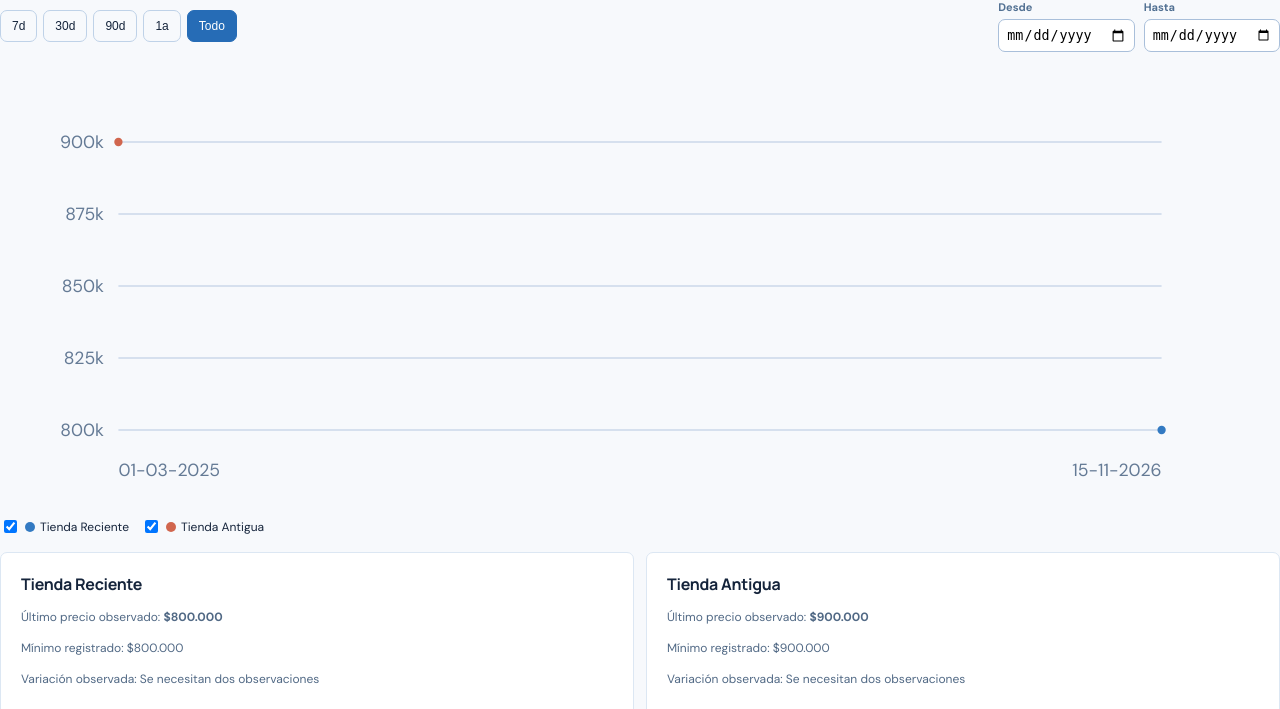
Test: hides stores without observations in selected period from both cards and legend
Expected: the heading "Tienda Antigua" is shown, [667,573,780,595]
Type "2026-11-01" into the date field labelled "Desde" at (1066, 36), box [998,19,1135,52]
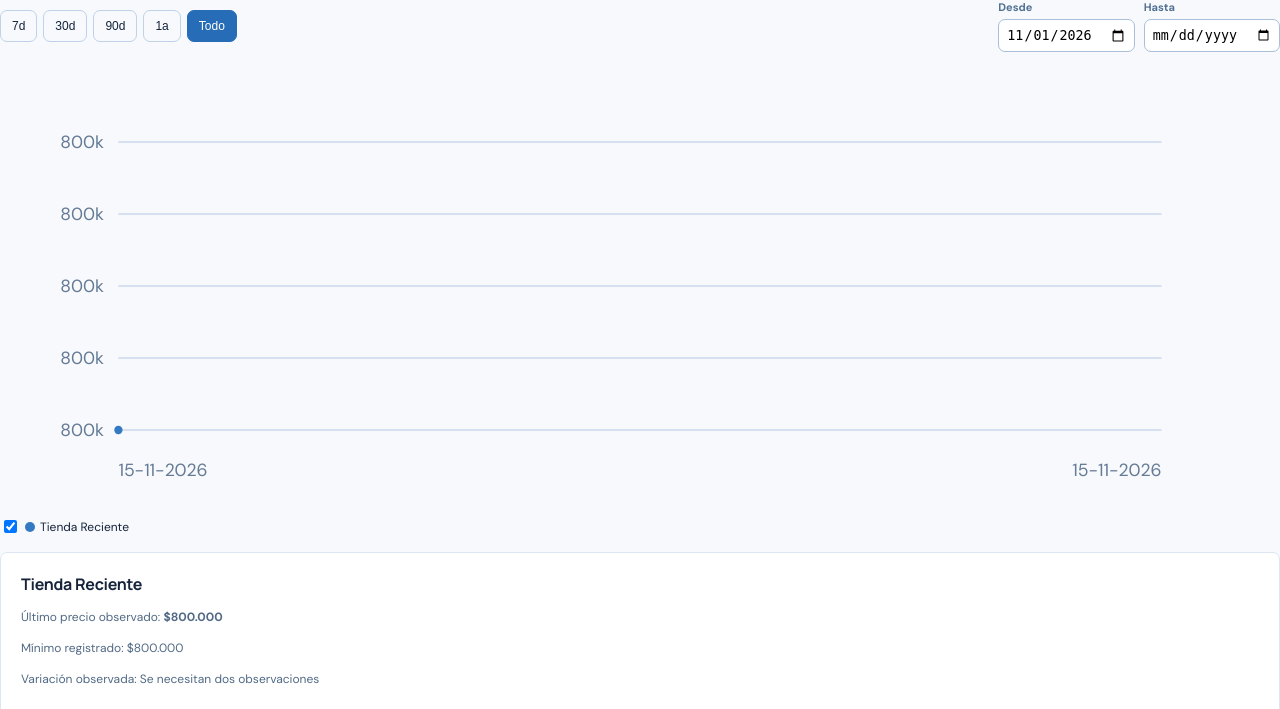
Expected: the heading "Tienda Reciente" is shown, [21,573,142,595]
Expected: the label "Tienda Antigua" is gone
Expected: the label labelled "Tienda Antigua" is gone
Type "2027-01-01" into the date field labelled "Desde" at (1066, 36), box [998,19,1135,52]
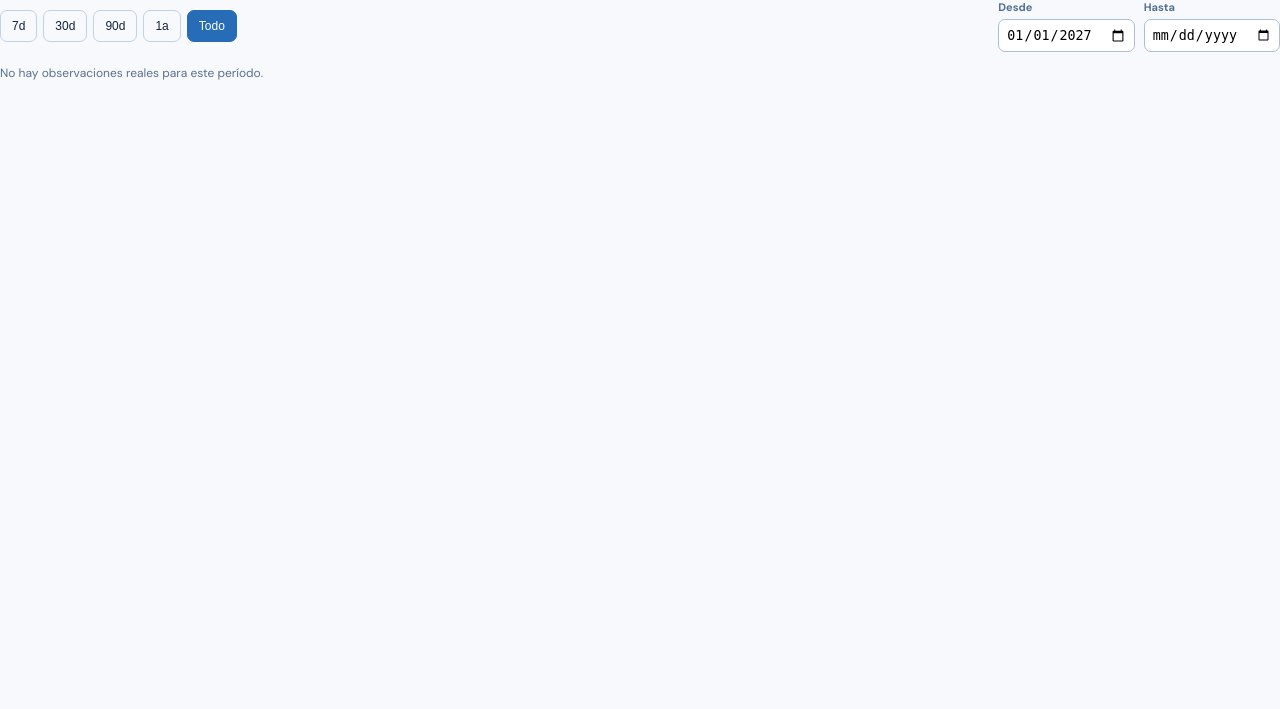
Expected: no elements with class "trend-card" are shown
Expected: the text "No hay observaciones reales para este período." is shown, [0,65,263,81]
